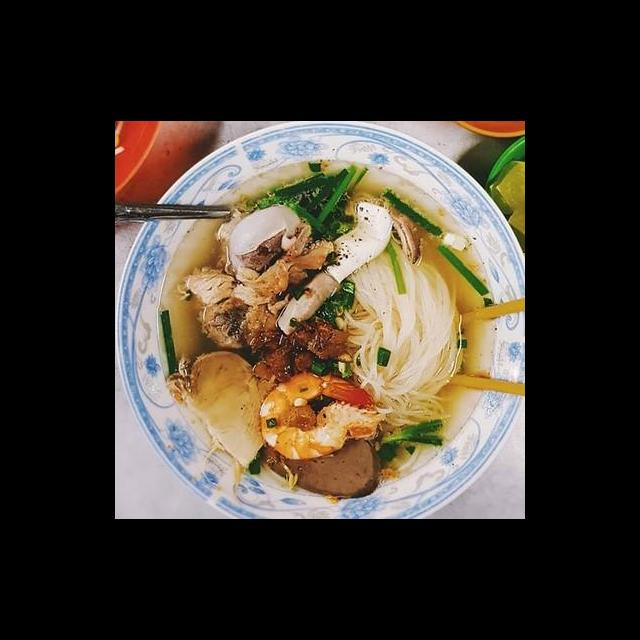banh hu tieu: (336, 228, 467, 436)
gan: (256, 425, 386, 502)
hu tieu: (133, 151, 525, 519)
muc: (223, 200, 307, 283), (318, 198, 397, 286)
thit heo: (159, 344, 284, 472)
tom: (255, 370, 393, 463)
